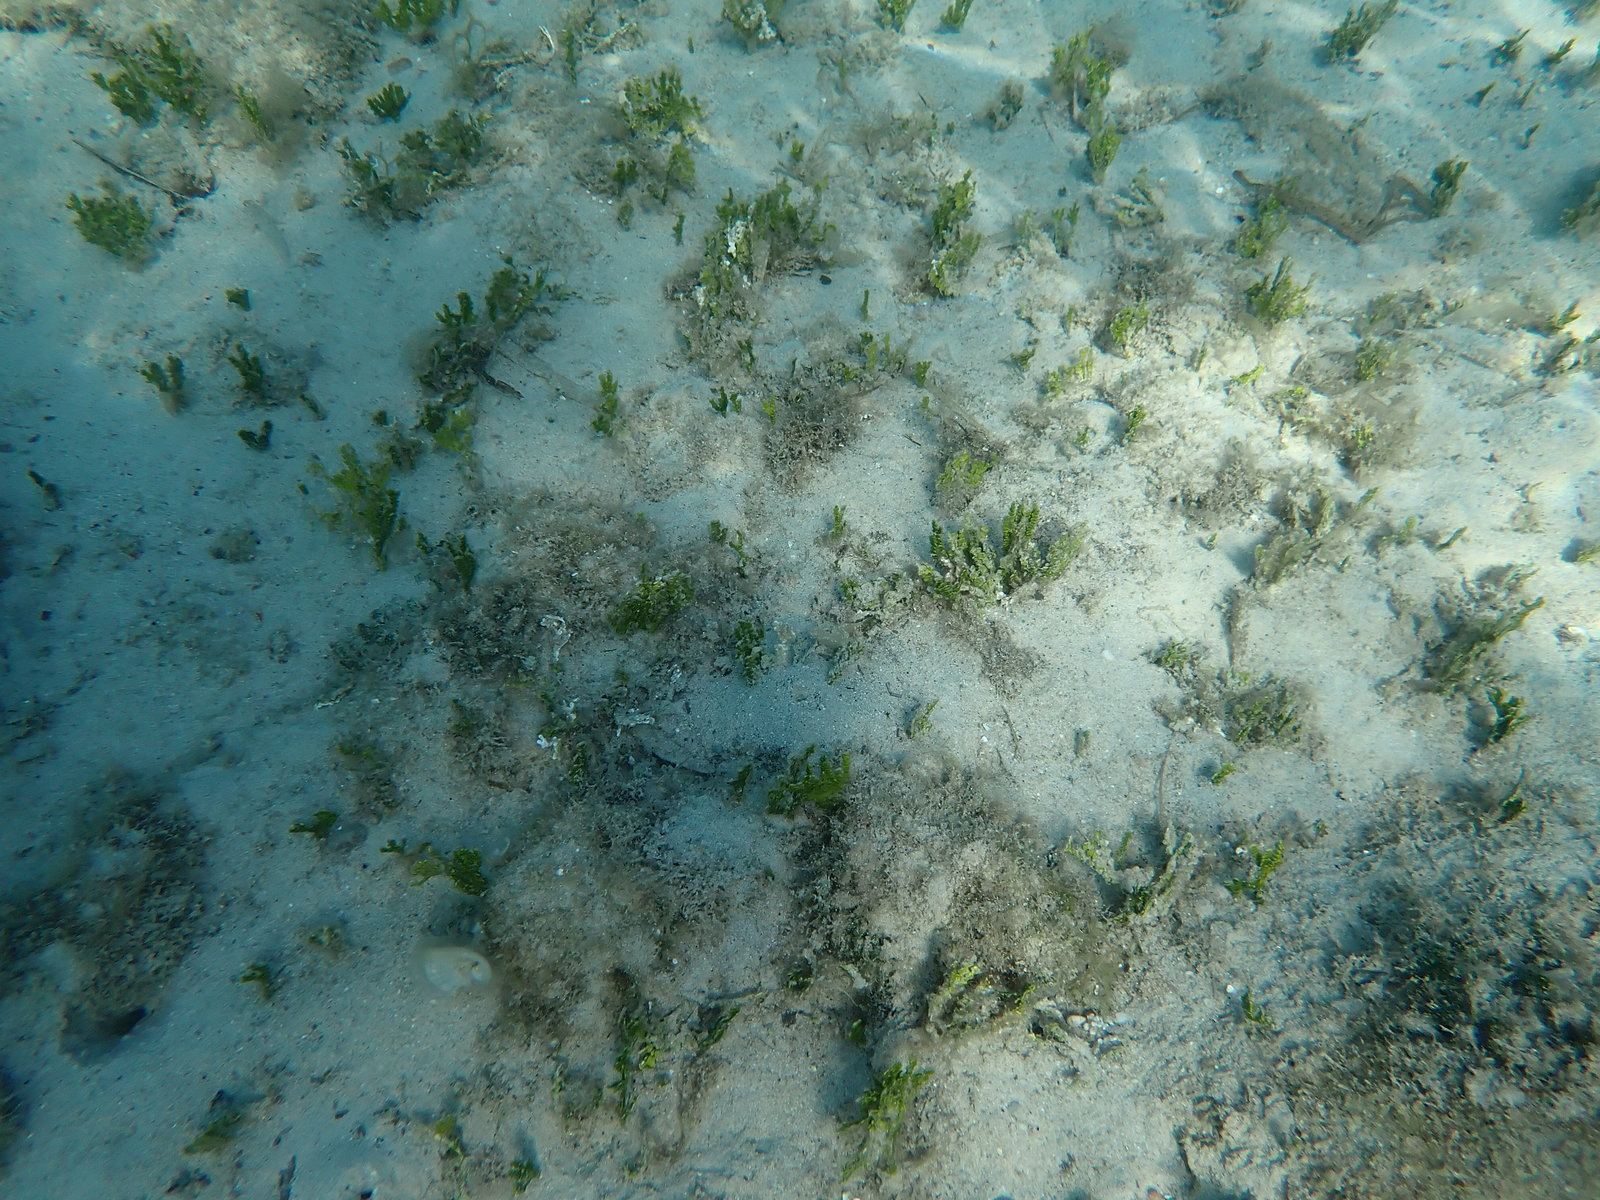halimeda: (1435, 599, 1545, 686), (912, 518, 1002, 614), (67, 192, 156, 266), (1125, 828, 1199, 916), (616, 68, 702, 135), (855, 1059, 939, 1124), (1065, 828, 1153, 889), (610, 565, 694, 628), (144, 21, 195, 110), (306, 442, 391, 495), (1246, 258, 1317, 320), (1328, 1, 1400, 62), (93, 52, 151, 124), (1014, 528, 1086, 585), (485, 258, 547, 324), (355, 487, 401, 574), (1228, 839, 1290, 901), (1233, 189, 1288, 257), (927, 231, 985, 294), (926, 959, 981, 1025), (420, 839, 484, 895), (1235, 697, 1303, 747), (787, 751, 857, 800), (1487, 683, 1540, 747), (932, 171, 978, 238), (1107, 297, 1157, 358), (1254, 533, 1308, 585), (695, 232, 729, 310), (719, 193, 752, 268), (934, 453, 997, 492), (723, 3, 784, 43), (842, 579, 913, 611), (1054, 26, 1091, 89), (533, 700, 576, 753), (336, 141, 370, 207), (375, 1, 449, 32), (231, 79, 271, 132), (1003, 503, 1033, 572), (736, 613, 763, 684), (368, 82, 414, 122), (441, 534, 479, 584), (228, 342, 262, 395), (756, 180, 790, 231), (1082, 55, 1114, 108), (1087, 129, 1124, 174), (593, 369, 619, 435), (141, 354, 185, 389), (435, 290, 474, 326), (1361, 343, 1396, 383), (669, 141, 695, 194), (1226, 364, 1267, 395), (1503, 787, 1532, 828), (432, 430, 476, 456), (430, 1116, 460, 1153), (1208, 760, 1238, 797), (1159, 642, 1199, 668), (238, 421, 272, 451), (616, 708, 655, 734), (917, 695, 940, 737), (319, 500, 349, 532), (1245, 993, 1272, 1026), (1124, 403, 1146, 442), (877, 1, 908, 29), (1437, 529, 1469, 556), (1073, 348, 1096, 384), (615, 156, 637, 190), (941, 1, 970, 28), (708, 384, 729, 418), (511, 1163, 535, 1194), (226, 285, 252, 311), (382, 833, 412, 856), (729, 531, 751, 562), (762, 392, 781, 427), (842, 1156, 871, 1179), (737, 335, 757, 367), (1560, 301, 1580, 333), (1010, 348, 1038, 369), (241, 967, 265, 991), (450, 406, 475, 429), (401, 130, 430, 149), (1047, 369, 1068, 395), (830, 502, 847, 534), (881, 1142, 896, 1176), (913, 361, 935, 384), (1558, 37, 1579, 62), (1322, 493, 1333, 537), (789, 200, 803, 234), (648, 183, 669, 204), (1356, 418, 1371, 449), (842, 1114, 869, 1131), (300, 395, 319, 418), (26, 471, 49, 490), (1577, 545, 1600, 563), (1363, 485, 1380, 511), (866, 345, 881, 371), (709, 521, 727, 542), (619, 203, 632, 228), (1406, 514, 1419, 542), (1068, 203, 1081, 231), (1051, 208, 1065, 233), (1281, 384, 1309, 397), (883, 337, 894, 367), (645, 1037, 656, 1068), (1065, 304, 1076, 333), (1198, 340, 1207, 376), (414, 531, 428, 552), (675, 214, 685, 243), (1075, 430, 1091, 447), (731, 393, 743, 413), (296, 484, 310, 498), (862, 333, 876, 347), (840, 366, 855, 378), (792, 139, 803, 158), (947, 118, 956, 134), (922, 396, 930, 411), (863, 286, 867, 315), (1208, 534, 1218, 545), (399, 516, 406, 529)
